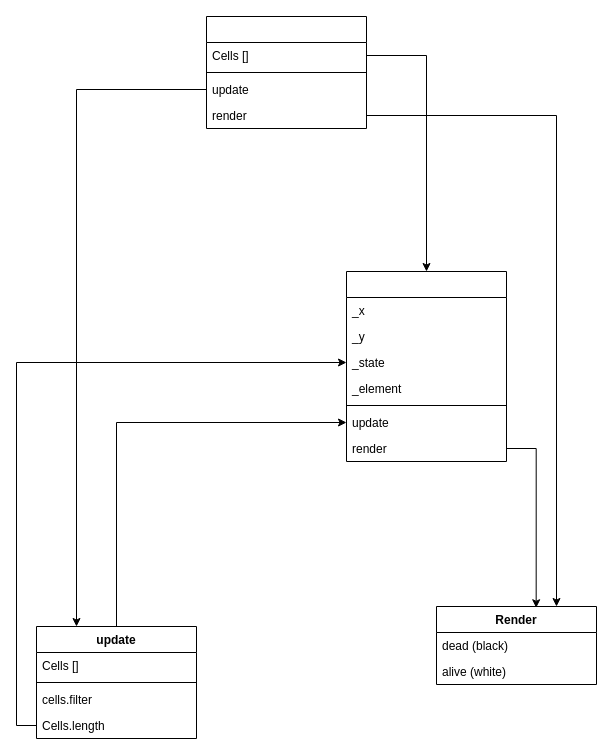
This 613x755 diagram has some shape labels left out. The shapes that lost their labels are listed below. From the top down, each one's box as (x1, y1, x2, y2) in pixels, then its label:
(206, 16, 366, 128): Game
(346, 270, 506, 462): Cell
